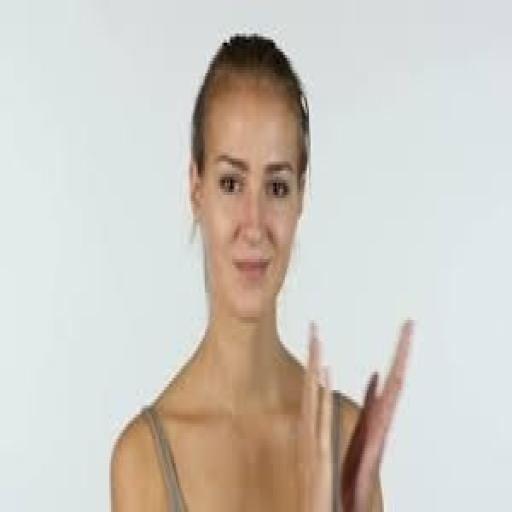clapping: (108, 30, 416, 509)
